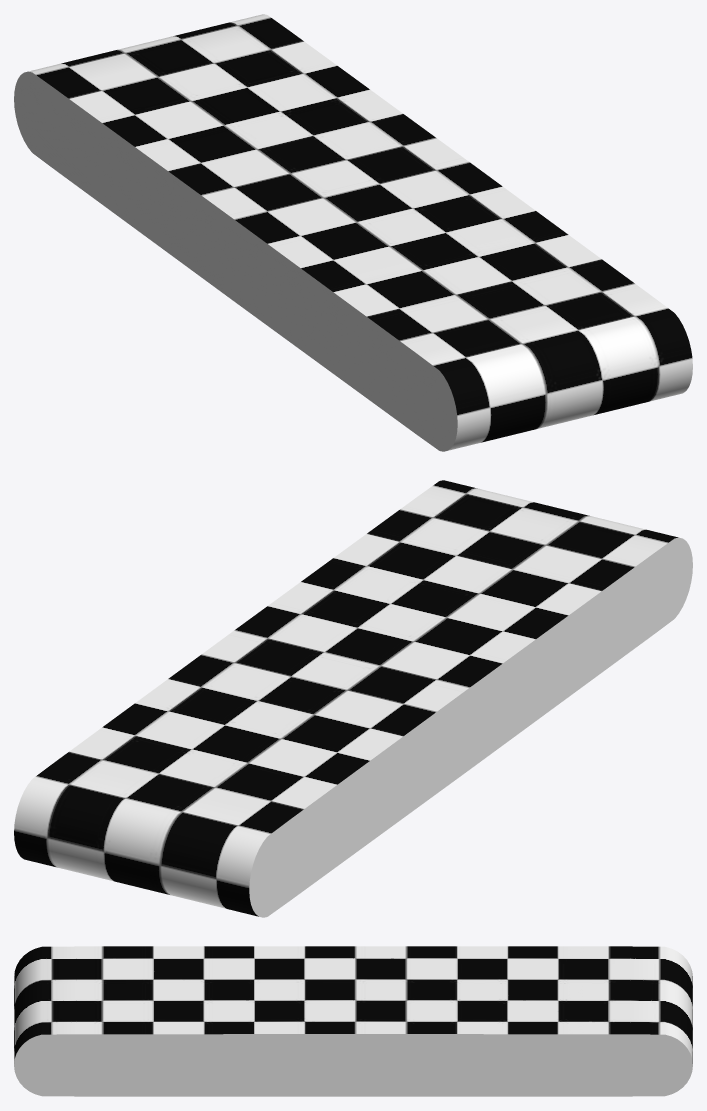
File: FinalLinePainted.fbx
The picture shows the model from 3 angles, top to bottom: view 1: azimuth 30°, elevation 25°; view 2: azimuth 150°, elevation 25°; view 3: azimuth 270°, elevation 25°; orthographic projection. The views are drawn at different scales.
Parts seen in each view (by area): view 1: Cylinder; view 2: Cylinder; view 3: Cylinder.
Boxes of the visible parts, <box> form: Cylinder: <box>14,14,692,451</box>; Cylinder: <box>14,480,692,917</box>; Cylinder: <box>14,946,692,1096</box>.
Bounding box in the file's own units: 600 × 200 × 1960.
